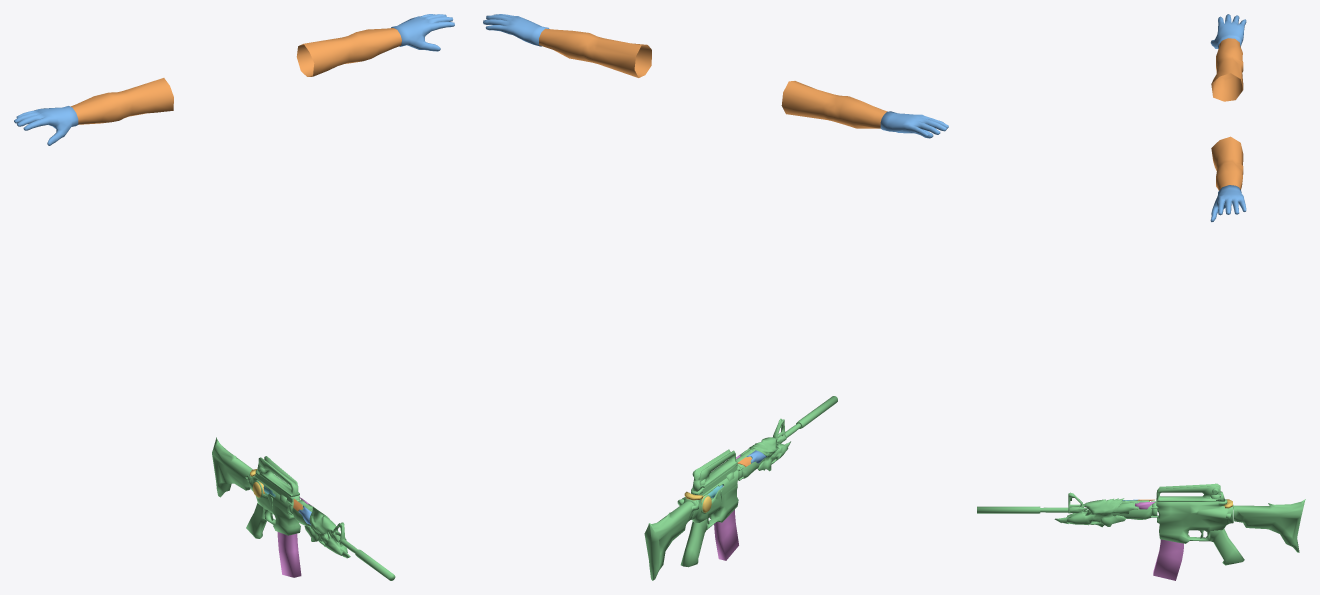
File: PV-M4A1_S_Transformers_raw.obj
The picture shows the model from 3 angles, left to right: view 1: azimuth 30°, elevation 25°; view 2: azimuth 150°, elevation 25°; view 3: azimuth 270°, elevation 25°; orthographic projection. The views are drawn at different scales.
Visible parts, largest first — view 1: PV-M4A1_S_Transformers_M4A1_transformers_Body, PV-M4A1_S_Transformers_Fview-arm2, PV-M4A1_S_Transformers_Fview-hand2, PV-M4A1_S_Transformers_M4A1_transformers_MAG; view 2: PV-M4A1_S_Transformers_M4A1_transformers_Body, PV-M4A1_S_Transformers_Fview-arm2, PV-M4A1_S_Transformers_Fview-hand2, PV-M4A1_S_Transformers_M4A1_transformers_MAG; view 3: PV-M4A1_S_Transformers_M4A1_transformers_Body, PV-M4A1_S_Transformers_Fview-arm2, PV-M4A1_S_Transformers_Fview-hand2, PV-M4A1_S_Transformers_M4A1_transformers_MAG.
Part boxes in pixels (bbox=[...]): PV-M4A1_S_Transformers_M4A1_transformers_Body: bbox=[212, 437, 395, 580]; PV-M4A1_S_Transformers_Fview-arm2: bbox=[71, 28, 401, 124]; PV-M4A1_S_Transformers_Fview-hand2: bbox=[14, 14, 454, 145]; PV-M4A1_S_Transformers_M4A1_transformers_MAG: bbox=[277, 532, 301, 577]; PV-M4A1_S_Transformers_M4A1_transformers_Body: bbox=[644, 396, 837, 580]; PV-M4A1_S_Transformers_Fview-arm2: bbox=[539, 28, 887, 128]; PV-M4A1_S_Transformers_Fview-hand2: bbox=[483, 14, 948, 138]; PV-M4A1_S_Transformers_M4A1_transformers_MAG: bbox=[714, 486, 738, 560]; PV-M4A1_S_Transformers_M4A1_transformers_Body: bbox=[977, 483, 1305, 565]; PV-M4A1_S_Transformers_Fview-arm2: bbox=[1211, 38, 1243, 190]; PV-M4A1_S_Transformers_Fview-hand2: bbox=[1210, 14, 1246, 222]; PV-M4A1_S_Transformers_M4A1_transformers_MAG: bbox=[1153, 539, 1183, 580].
Size of the model in its own units: 28.52 by 31.09 by 19.96.
